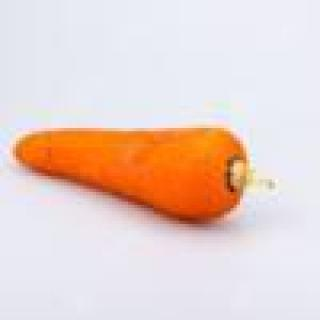Wortel: (4, 117, 276, 232)
